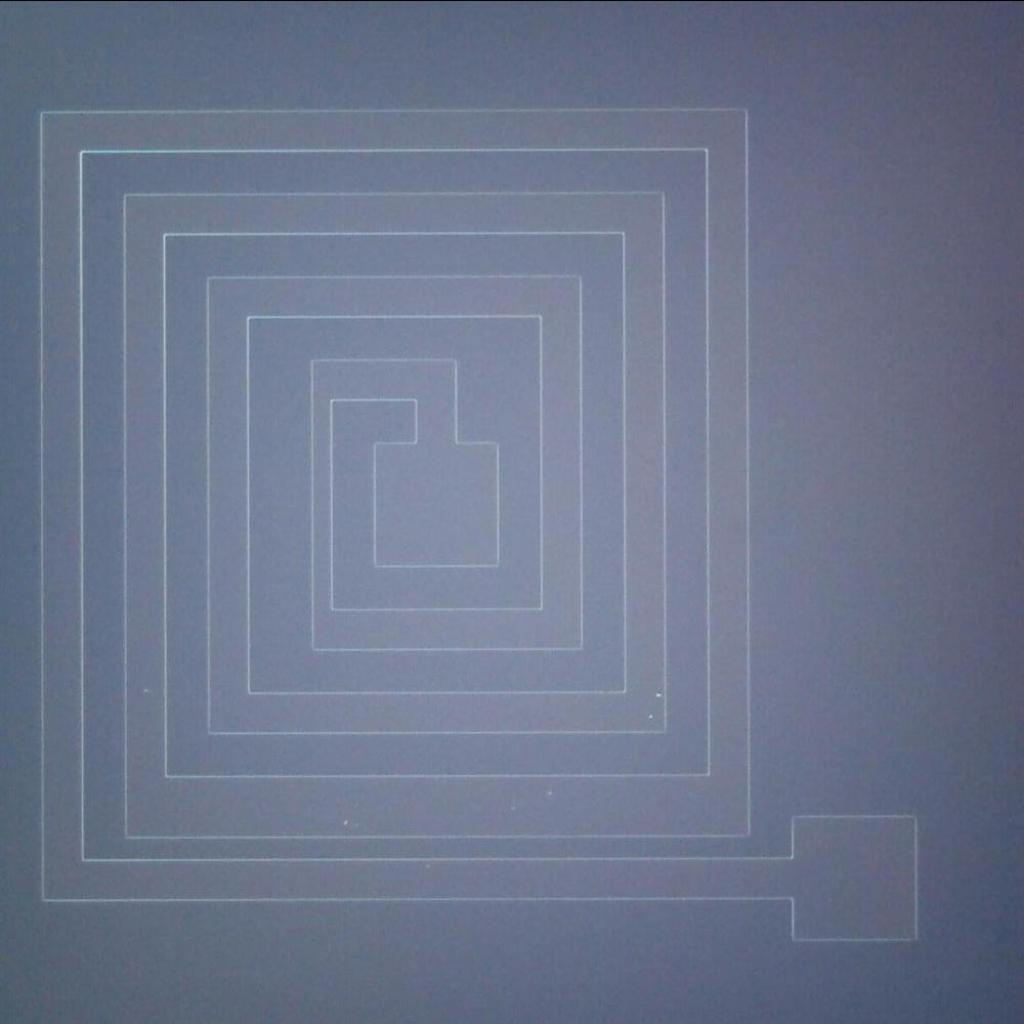dot: (651, 682, 673, 706)
fat circuit: (116, 766, 764, 841)
thin circuit: (294, 345, 355, 660)
